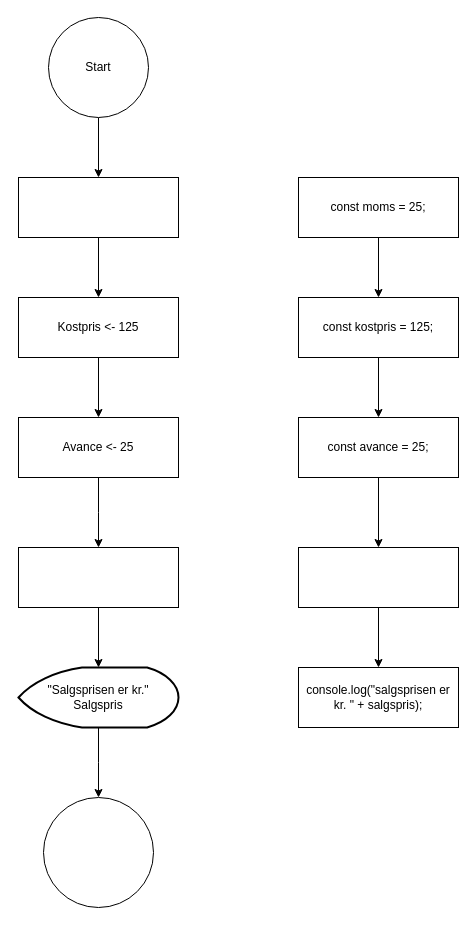
This 476x925 diagram has some shape labels left out. The shapes that lost their labels are listed below. From the top down, each one's box as (x1, y1, x2, y2) in pixels, then its label:
(18, 176, 178, 238): Moms <- 0.25
(18, 546, 178, 608): Salgspris <- (kostpris + avance) * (1 + moms)
(298, 546, 458, 608): const salgspris = (kostpris + avance) * (1 + moms)
(42, 796, 154, 908): Slut
